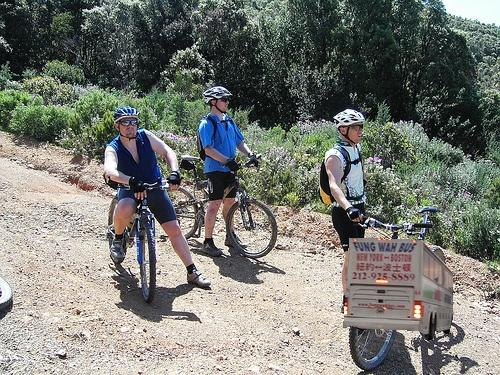tampered: (344, 239, 453, 340)
